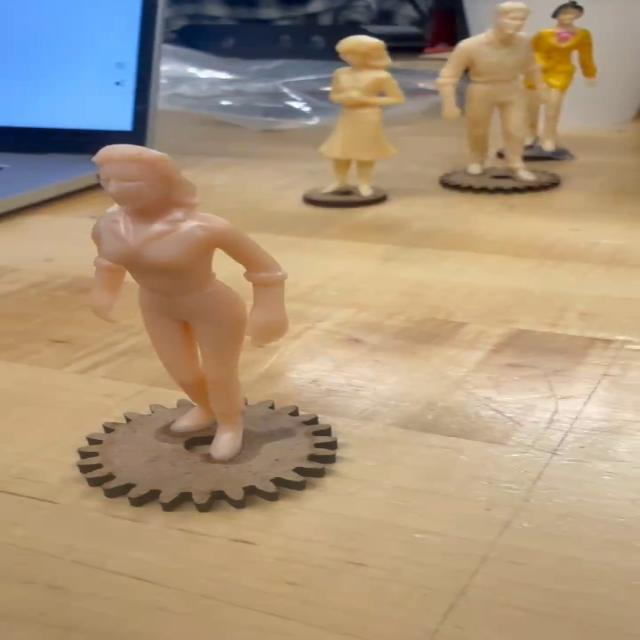Unauthorized: (83, 140, 298, 463)
